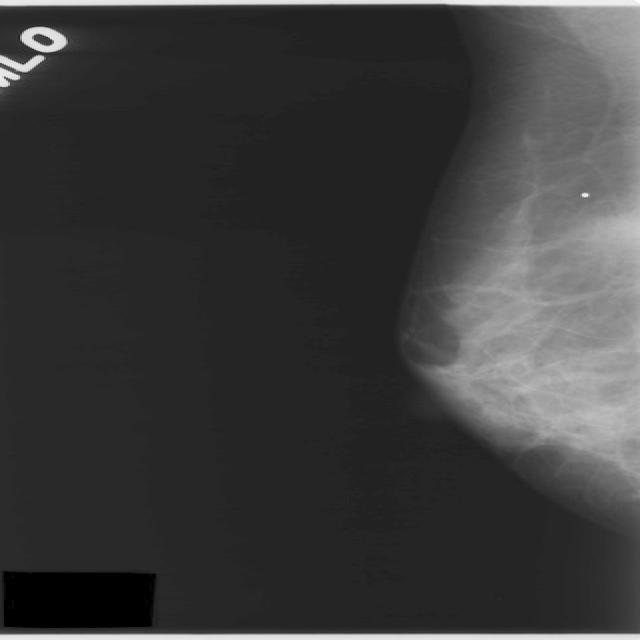tumour: (572, 204, 638, 261)
